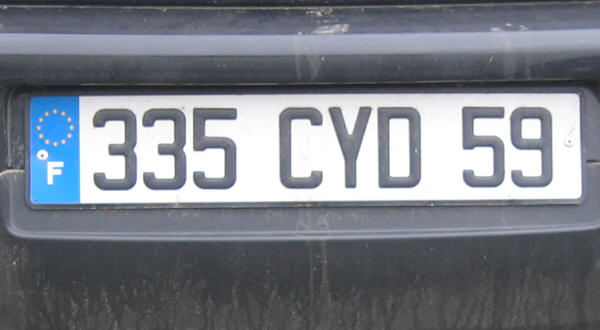license_plate: (25, 92, 583, 202)
